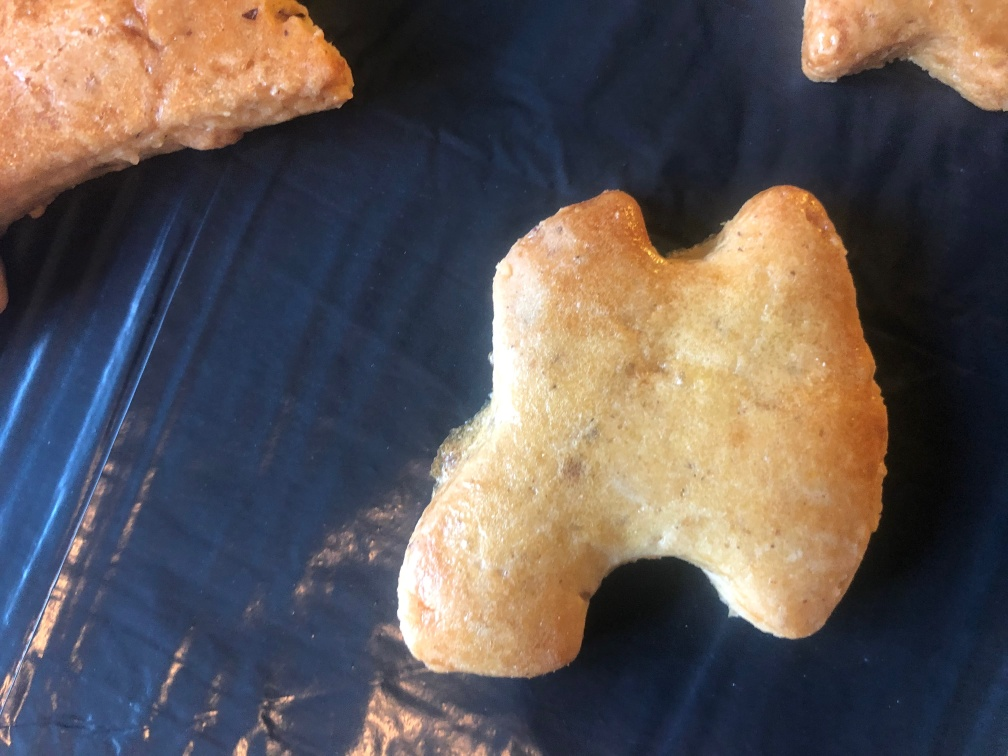lamb: (376, 165, 910, 680)
